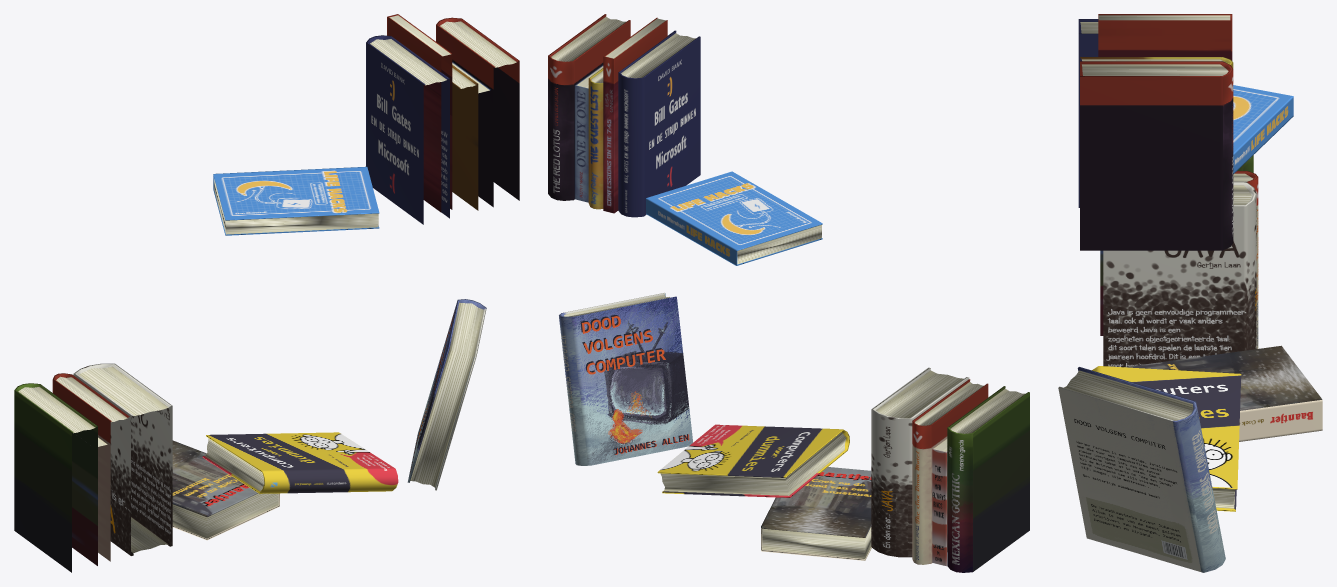
Rendered from books_composited.fbx.
3 renders of one model, left to right at view 1: azimuth 30°, elevation 25°; view 2: azimuth 150°, elevation 25°; view 3: azimuth 270°, elevation 25°, orthographic. The views are drawn at different scales.
Visible parts, largest first — view 1: LifeHacks_Softcover.004, LifeHacks_Softcover, BillGates_Hardcover, softcover, ComputersVoorDummies_Hardcover, LifeHacks_Softcover.001, DoodVolgensComputer_Hardcover, softcover.004, softcover.002, LifeHacks_Softcover.003, LifeHacks_Softcover.002; view 2: DoodVolgensComputer_Hardcover, LifeHacks_Softcover.004, BillGates_Hardcover, ComputersVoorDummies_Hardcover, softcover, LifeHacks_Softcover, softcover.004, LifeHacks_Softcover.001, LifeHacks_Softcover.003, softcover.002, LifeHacks_Softcover.002, softcover.001 (+1 smaller); view 3: LifeHacks_Softcover.001, DoodVolgensComputer_Hardcover, LifeHacks_Softcover, softcover.004, ComputersVoorDummies_Hardcover, softcover.002, softcover, BillGates_Hardcover, LifeHacks_Softcover.003, LifeHacks_Softcover.002, LifeHacks_Softcover.004.
Part boxes in pixels (x1=…): LifeHacks_Softcover.004: x1=14, y1=383, x2=97, y2=572; LifeHacks_Softcover: x1=73, y1=363, x2=172, y2=555; BillGates_Hardcover: x1=366, y1=35, x2=449, y2=224; softcover: x1=213, y1=166, x2=379, y2=235; ComputersVoorDummies_Hardcover: x1=202, y1=432, x2=398, y2=493; LifeHacks_Softcover.001: x1=436, y1=17, x2=519, y2=207; DoodVolgensComputer_Hardcover: x1=407, y1=299, x2=486, y2=490; softcover.004: x1=172, y1=440, x2=279, y2=540; softcover.002: x1=387, y1=14, x2=452, y2=212; LifeHacks_Softcover.003: x1=52, y1=373, x2=129, y2=561; LifeHacks_Softcover.002: x1=450, y1=65, x2=478, y2=210; DoodVolgensComputer_Hardcover: x1=559, y1=292, x2=693, y2=465; LifeHacks_Softcover.004: x1=947, y1=386, x2=1029, y2=572; BillGates_Hardcover: x1=618, y1=30, x2=700, y2=217; ComputersVoorDummies_Hardcover: x1=657, y1=424, x2=849, y2=497; softcover: x1=646, y1=171, x2=822, y2=265; LifeHacks_Softcover: x1=871, y1=367, x2=969, y2=557; softcover.004: x1=761, y1=467, x2=871, y2=560; LifeHacks_Softcover.001: x1=548, y1=14, x2=630, y2=200; LifeHacks_Softcover.003: x1=912, y1=379, x2=988, y2=564; softcover.002: x1=603, y1=17, x2=667, y2=213; LifeHacks_Softcover.002: x1=588, y1=68, x2=603, y2=209; softcover.001: x1=574, y1=65, x2=603, y2=202; LifeHacks_Softcover.001: x1=1080, y1=61, x2=1233, y2=250; DoodVolgensComputer_Hardcover: x1=1058, y1=367, x2=1225, y2=572; LifeHacks_Softcover: x1=1103, y1=181, x2=1256, y2=367; softcover.004: x1=1124, y1=345, x2=1322, y2=441; ComputersVoorDummies_Hardcover: x1=1092, y1=366, x2=1241, y2=511; softcover.002: x1=1098, y1=14, x2=1232, y2=60; softcover: x1=1233, y1=85, x2=1293, y2=173; BillGates_Hardcover: x1=1078, y1=19, x2=1098, y2=207; LifeHacks_Softcover.003: x1=1233, y1=171, x2=1258, y2=348; LifeHacks_Softcover.002: x1=1080, y1=57, x2=1233, y2=68; LifeHacks_Softcover.004: x1=1100, y1=155, x2=1253, y2=335.
Bounding box in the file's own units: 233 × 214 × 96.78.
